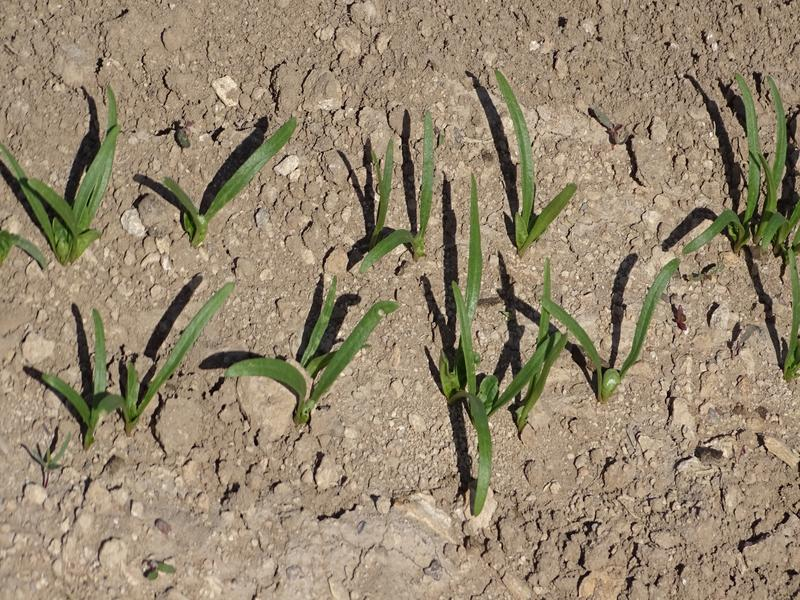Espinaca: (436, 244, 673, 508), (64, 279, 243, 436), (228, 285, 395, 416), (13, 83, 128, 271), (167, 114, 302, 239), (694, 84, 800, 242), (496, 68, 573, 251), (356, 130, 431, 261)
